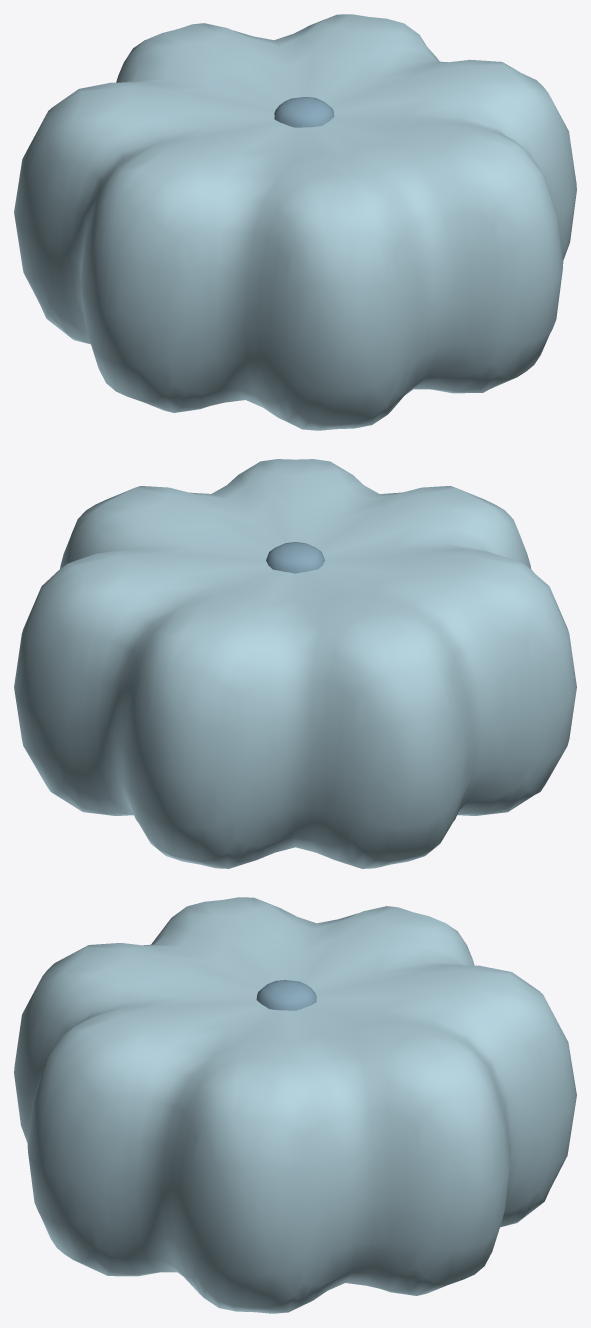
File: Ottoman_3.glb
3 renders of one model, top to bottom at view 1: azimuth 30°, elevation 25°; view 2: azimuth 150°, elevation 25°; view 3: azimuth 270°, elevation 25°, orthographic.
Visible parts, largest first — view 1: Ottoman_3; view 2: Ottoman_3; view 3: Ottoman_3.
Boxes of the visible parts, bbox=[...] form: Ottoman_3: bbox=[14, 14, 576, 430]; Ottoman_3: bbox=[14, 459, 576, 868]; Ottoman_3: bbox=[14, 897, 576, 1313].
Bounding box in the file's own units: 0.8037 × 0.3769 × 0.7994.
1 material, 1 textured.
